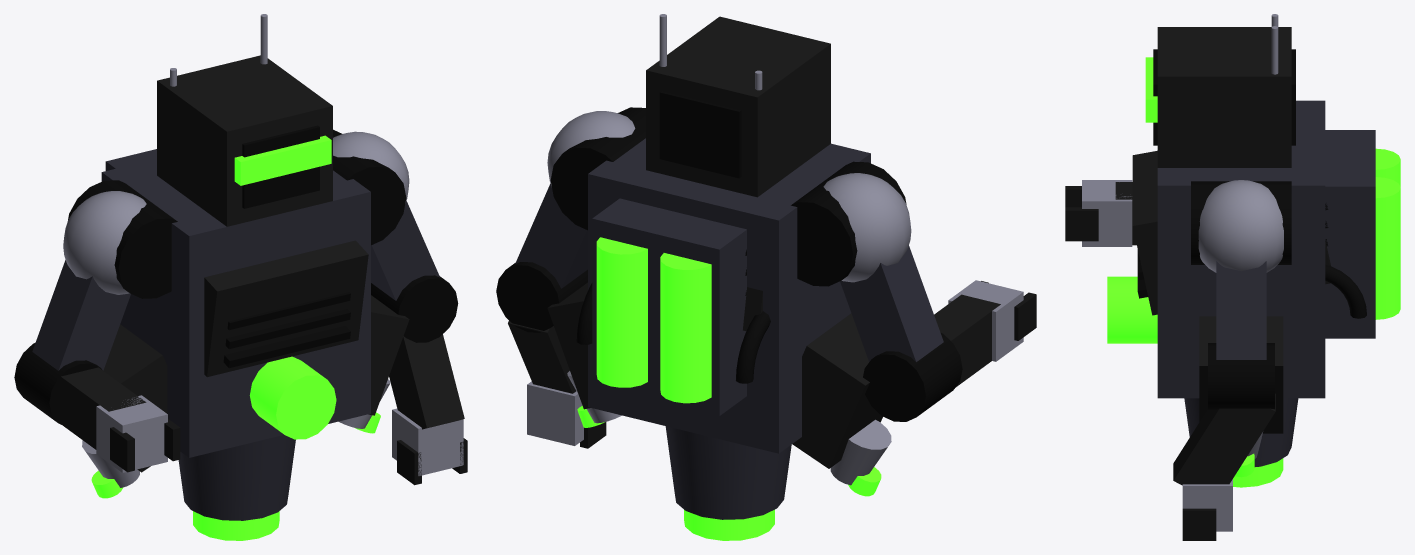
File: modello.glb
3 views of the same model, side by side, from view 1: azimuth 30°, elevation 25°; view 2: azimuth 150°, elevation 25°; view 3: azimuth 270°, elevation 25° (orthographic). The views are drawn at different scales.
Parts seen in each view (by area): view 1: CyberpunkRobot; view 2: CyberpunkRobot; view 3: CyberpunkRobot.
Boxes of the visible parts, x1=… form: CyberpunkRobot: x1=14, y1=14, x2=467, y2=540; CyberpunkRobot: x1=496, y1=14, x2=1036, y2=540; CyberpunkRobot: x1=1065, y1=14, x2=1400, y2=540.
Bounding box in the file's own units: 2.7 × 3.05 × 2.
